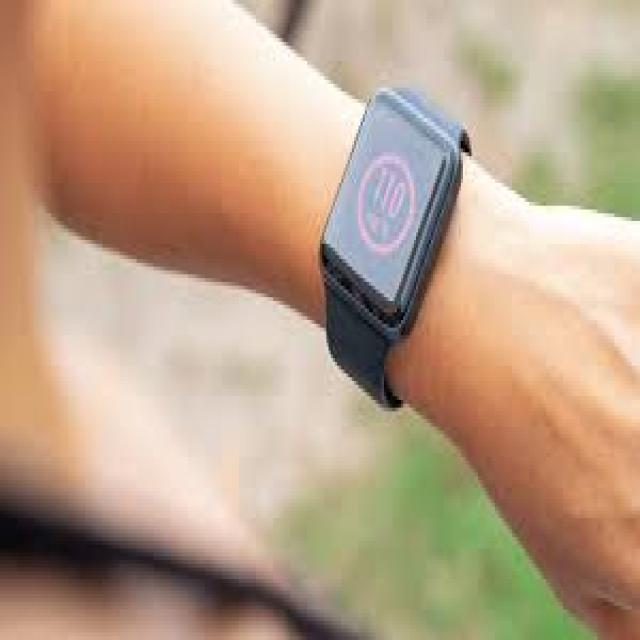objects: (320, 88, 469, 404)
